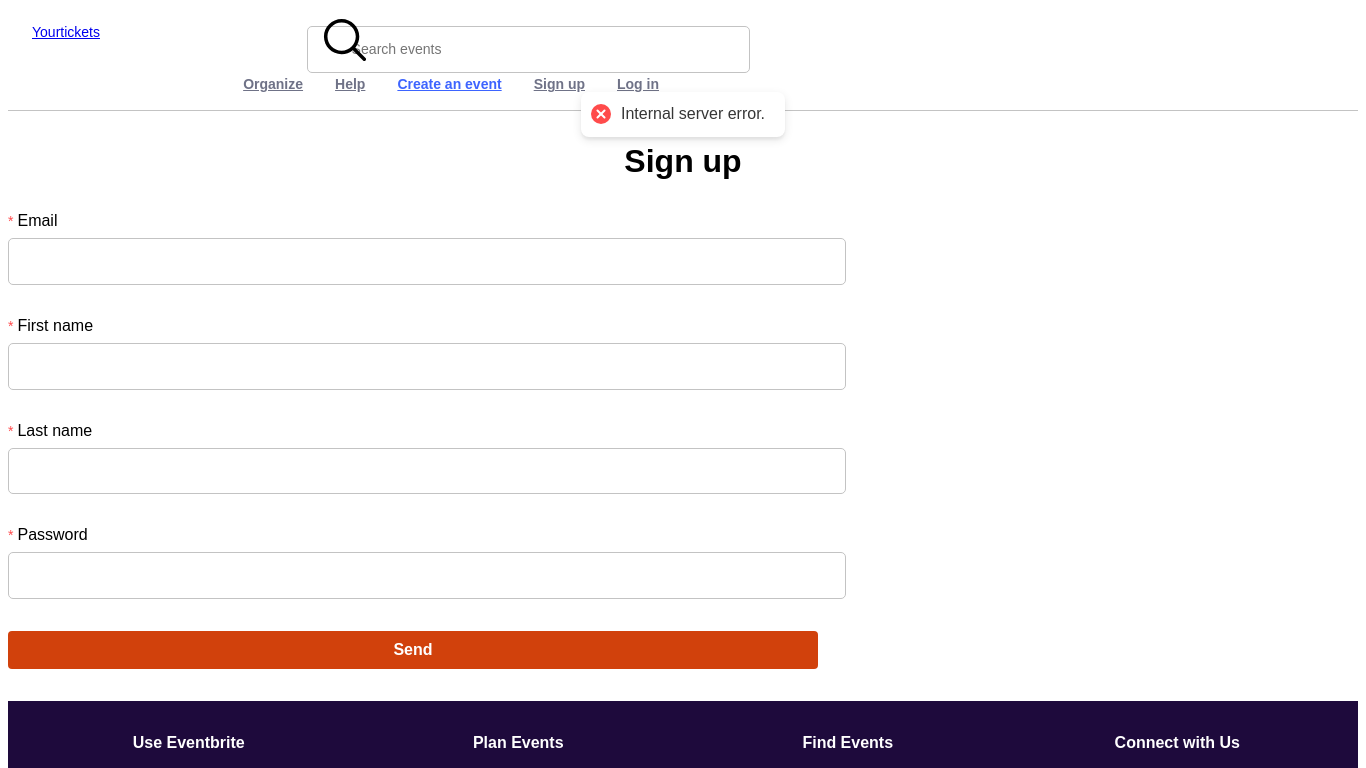
Scenario: <SignUp/> check validations › should validate required fields
Check: the text "Email is a required field" is not shown
Check: the text "First name is a required field" is not shown
Click the button "Send".
click(413, 650)  # box x1=8 y1=631 x2=818 y2=669
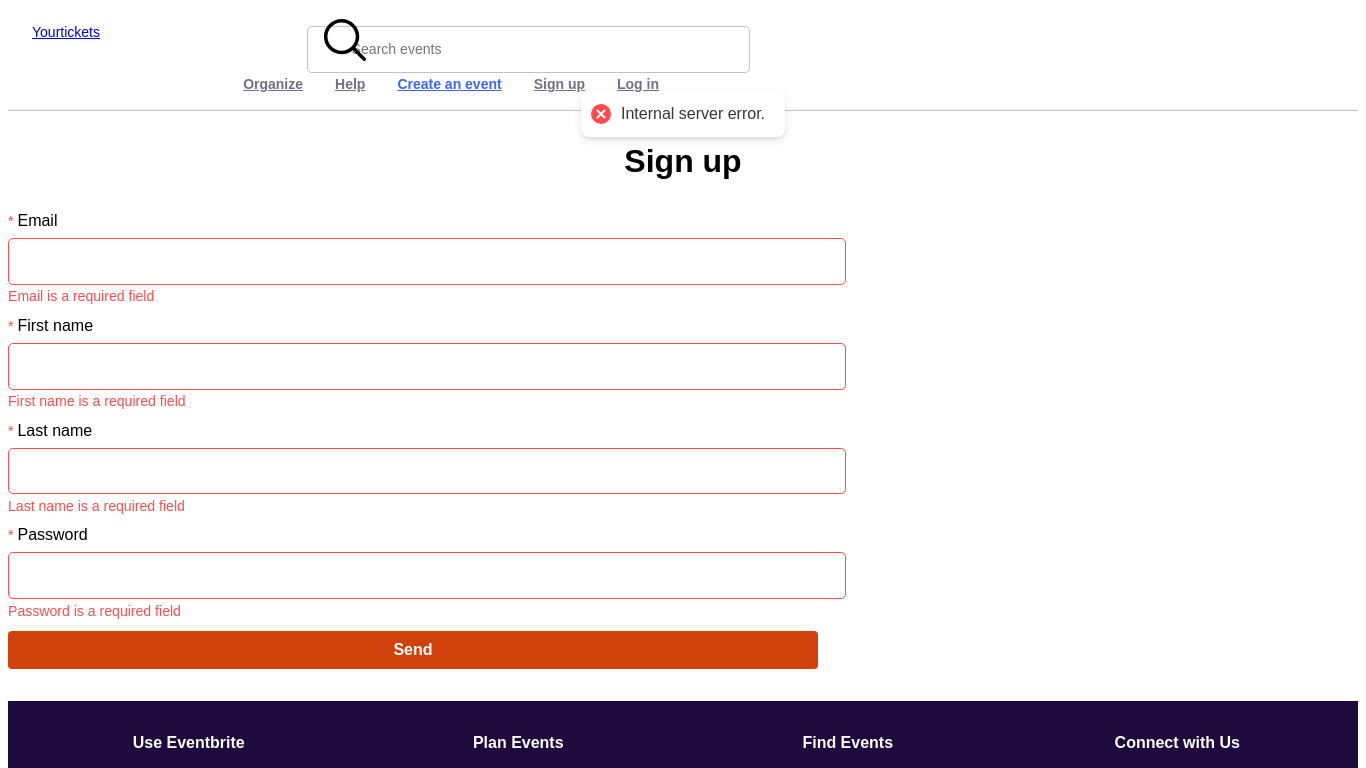
Check: the text "Email is a required field" is shown, box x1=8 y1=288 x2=154 y2=304
Check: the text "First name is a required field" is shown, box x1=8 y1=393 x2=186 y2=409
Check: the text "Last name is a required field" is shown, box x1=8 y1=498 x2=185 y2=514
